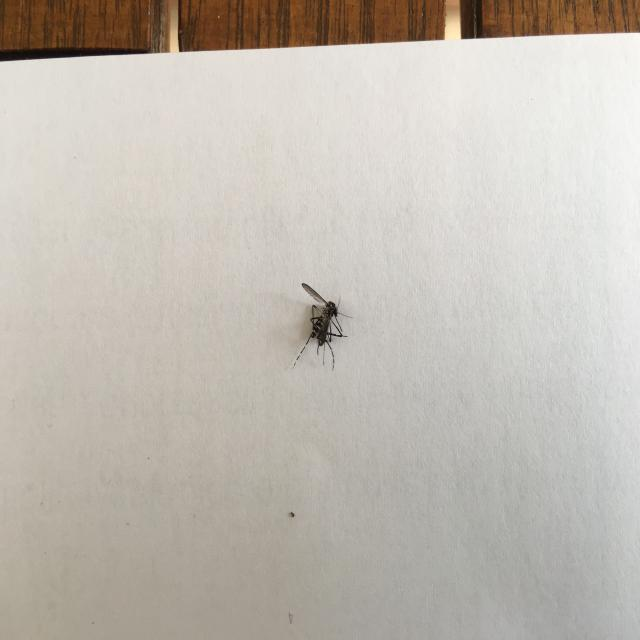albopictus: (284, 274, 356, 373)
